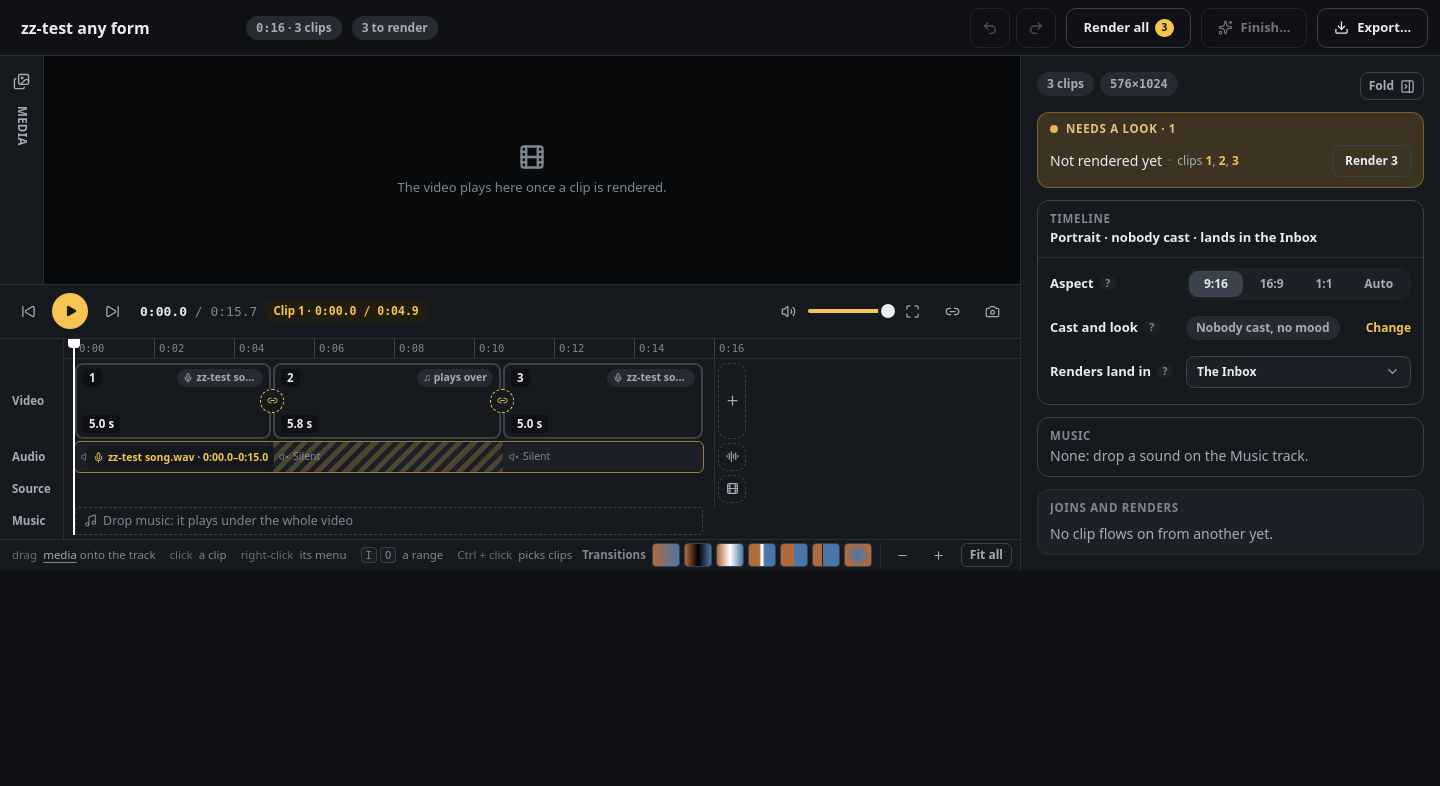
a recording's clips in any H3 form (card #72) › hatches the part it plays over on the stage and the band
Press the mouse on the button with aria-label "Recording zz-test song.wav, 0:00.0–0:15.0" at (181, 458), box [87,446,274,470]
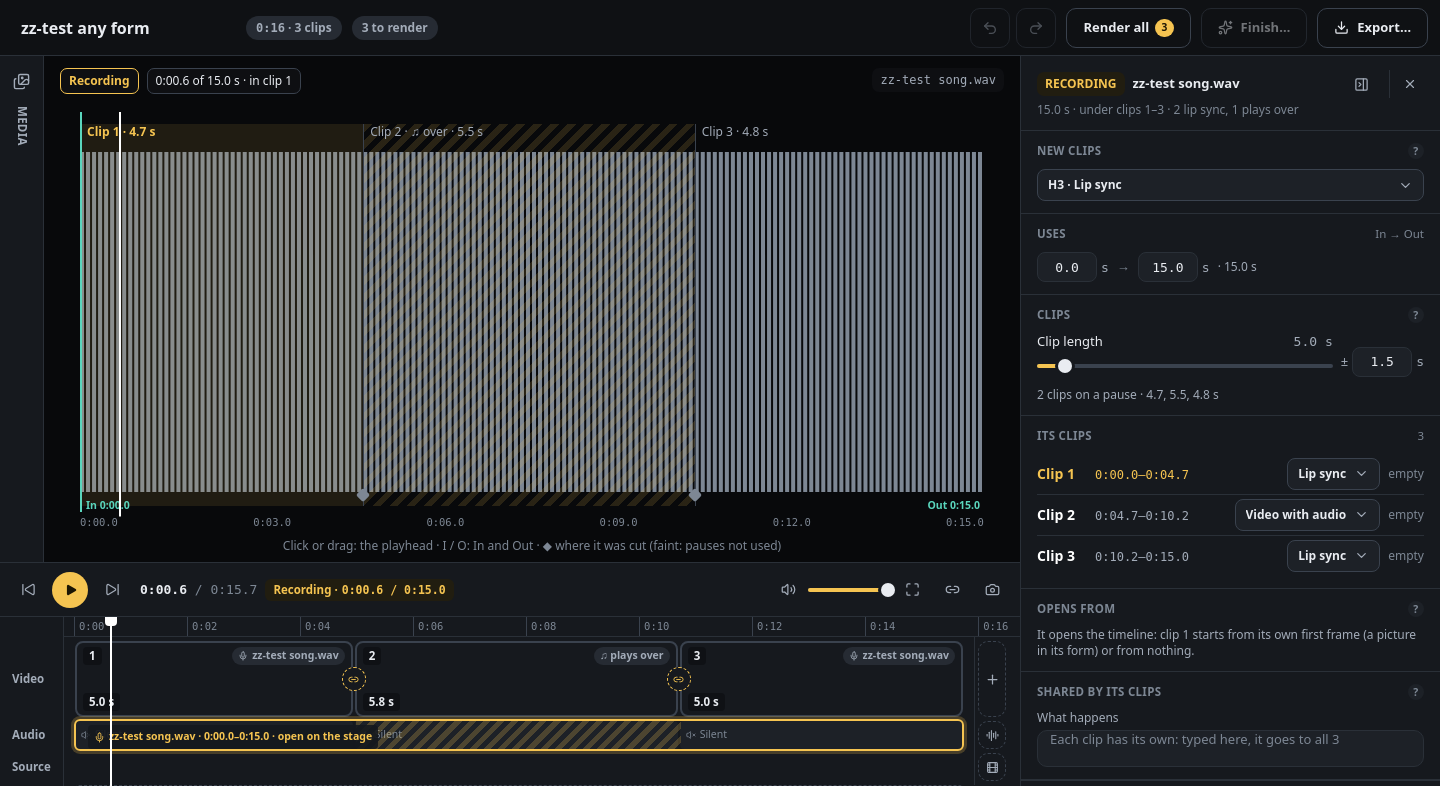
Expected: the element showing "Clip 2 · ♫ over · 5.5 s" is shown, [363,124,695,506]
